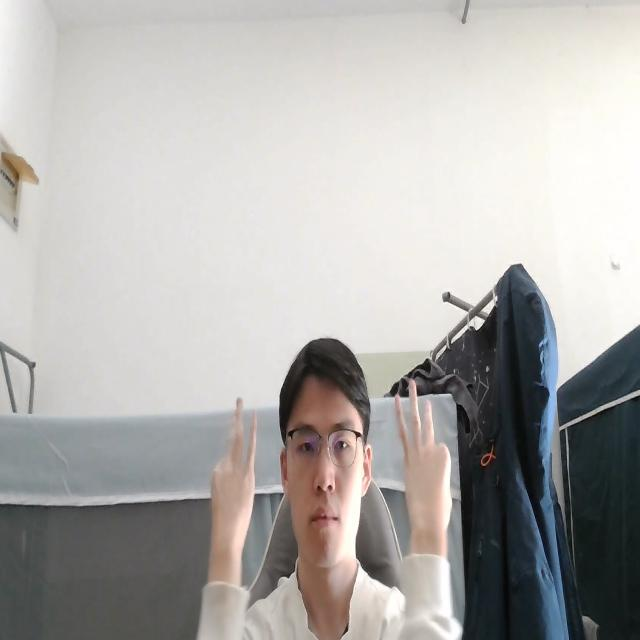three: (391, 373, 454, 543), (208, 390, 260, 559)
